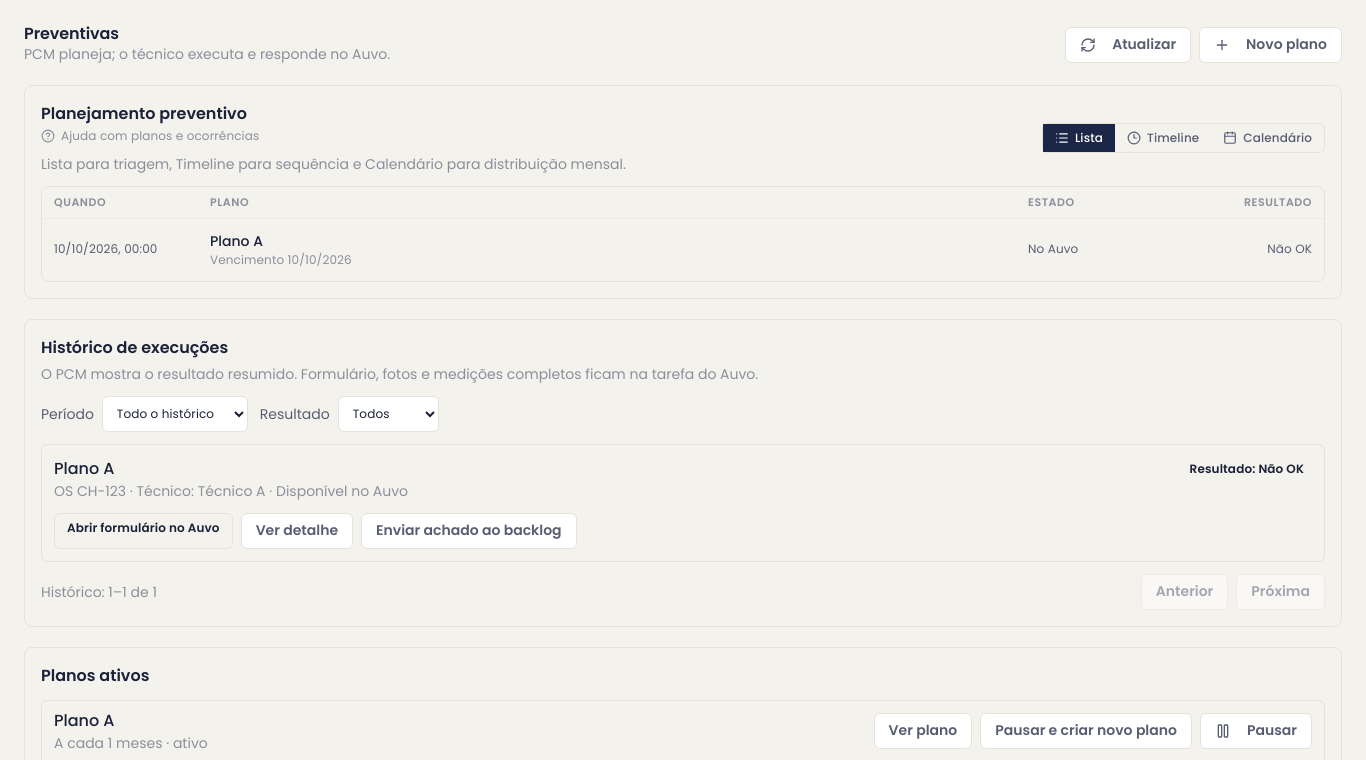
Test: PreventivasWorkspace — E01-S53 / E01-S163 AC-10 e AC-15 › fixa cliente e limita alvos no 360
The image size is (1366, 760).
Expected: the text "Plano A" below "Quando" is shown, x1=210 y1=231 x2=263 y2=251
Click the button "Novo plano". click: (1271, 44)
box: x1=1199 y1=26 x2=1342 y2=62
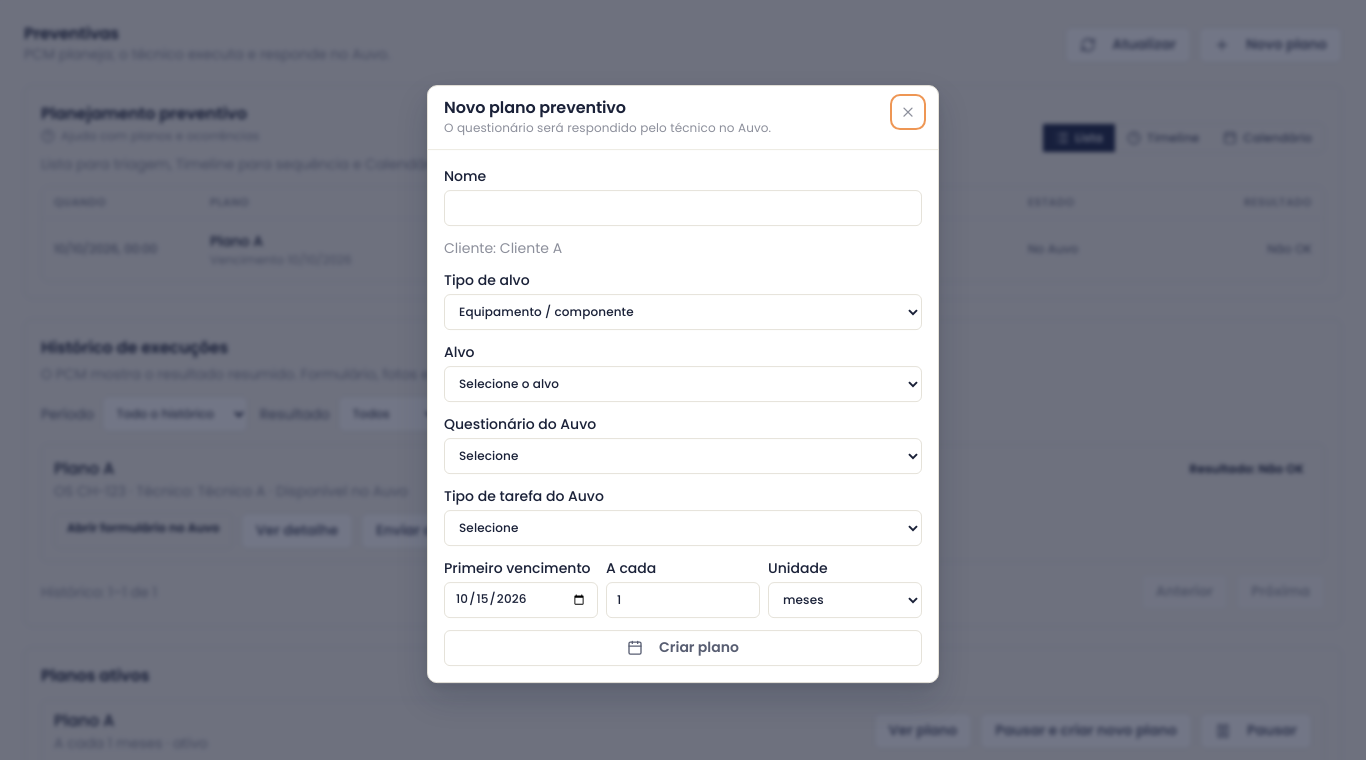
Result: the text "Cliente: Cliente A" is shown at x1=444 y1=238 x2=562 y2=258
